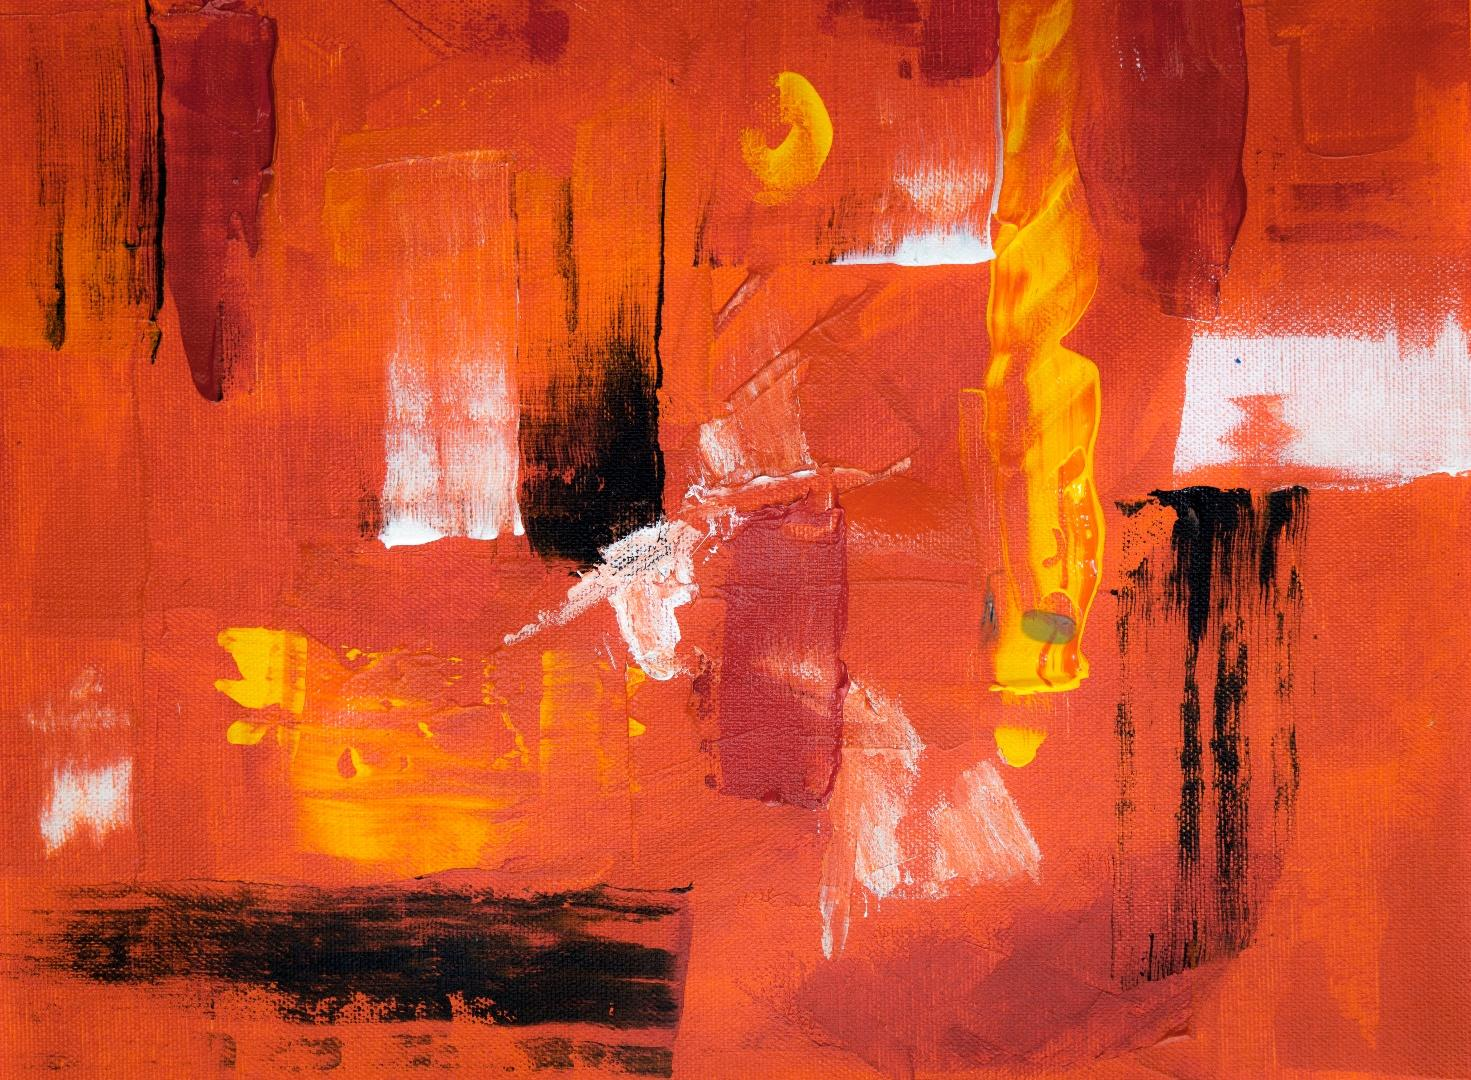trashbox-cardboard: (795, 492, 1080, 812)
